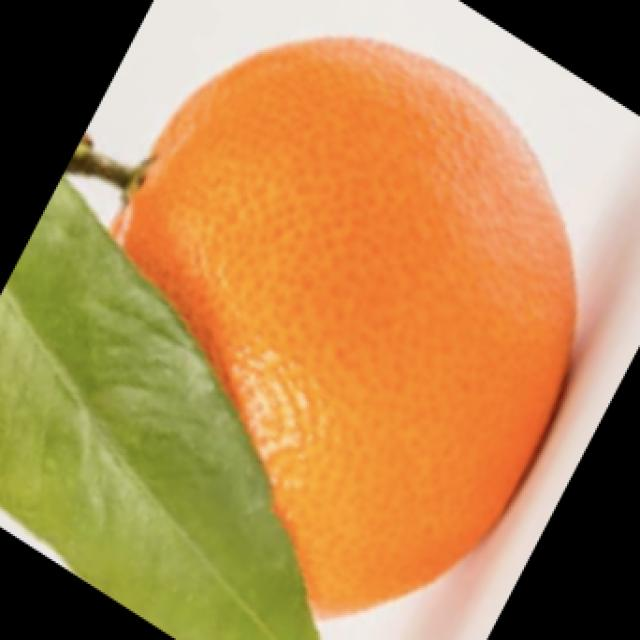orange: (79, 21, 576, 607)
